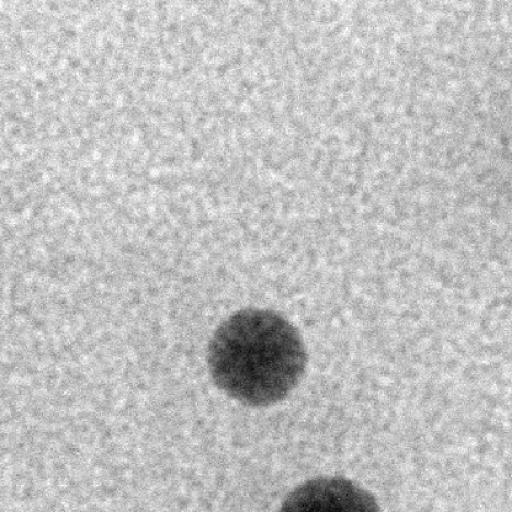Nanoparticles: (203, 304, 312, 408), (276, 474, 382, 512)
